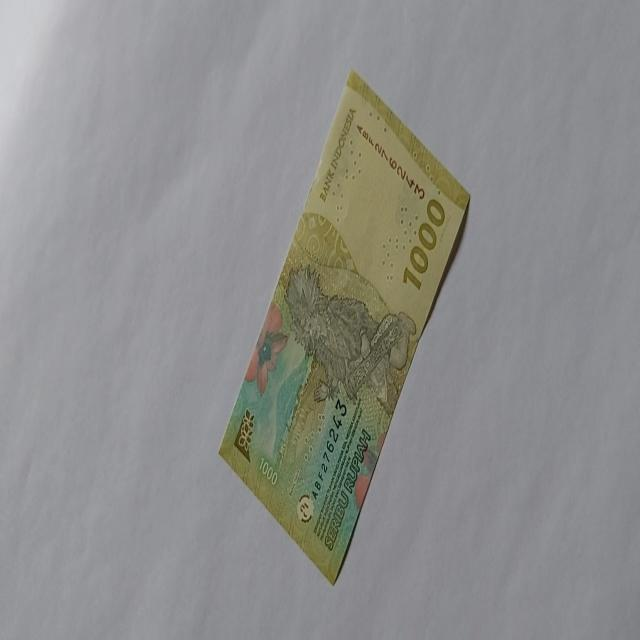seribu rupiah kertas: (217, 68, 471, 586)
